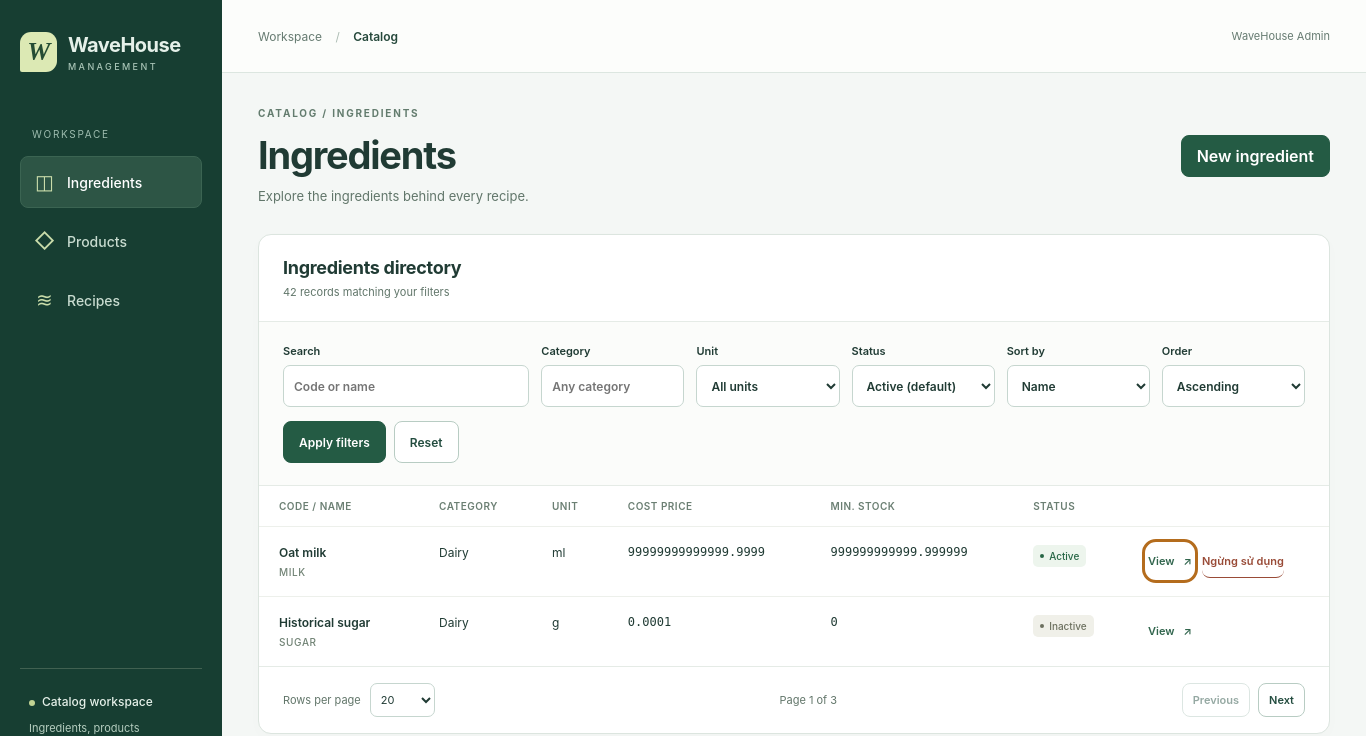
catalog navigation and records › opens ingredient details with keyboard and restores focus when closed
Press Enter
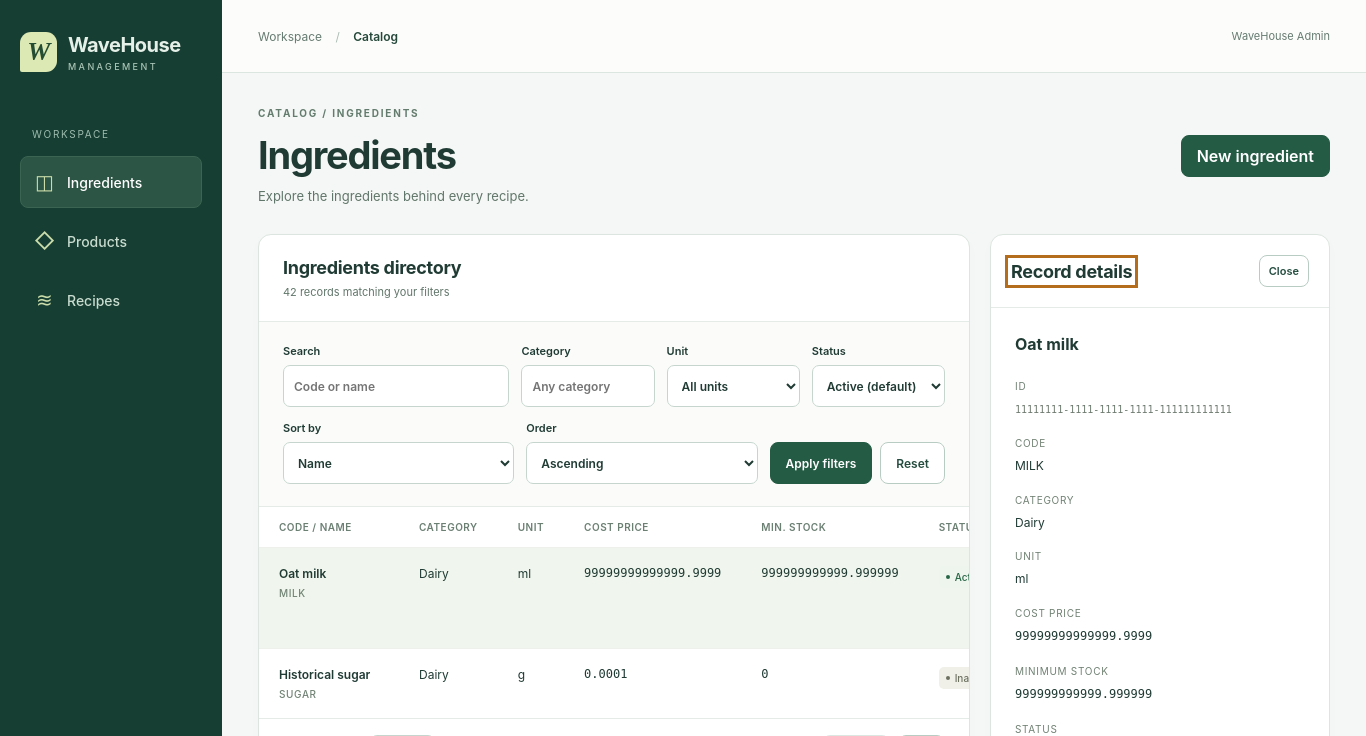
Result: the text "99999999999999.9999" is shown at 1015,629 -> 1152,643
Result: the text "999999999999.999999" is shown at 1015,687 -> 1152,701
Result: the text "11111111-1111-1111-1111-111111111111" is shown at 1015,404 -> 1232,415
Click the button with aria-label "Close details".
click(1284, 271)  # box 1259,255 -> 1309,287
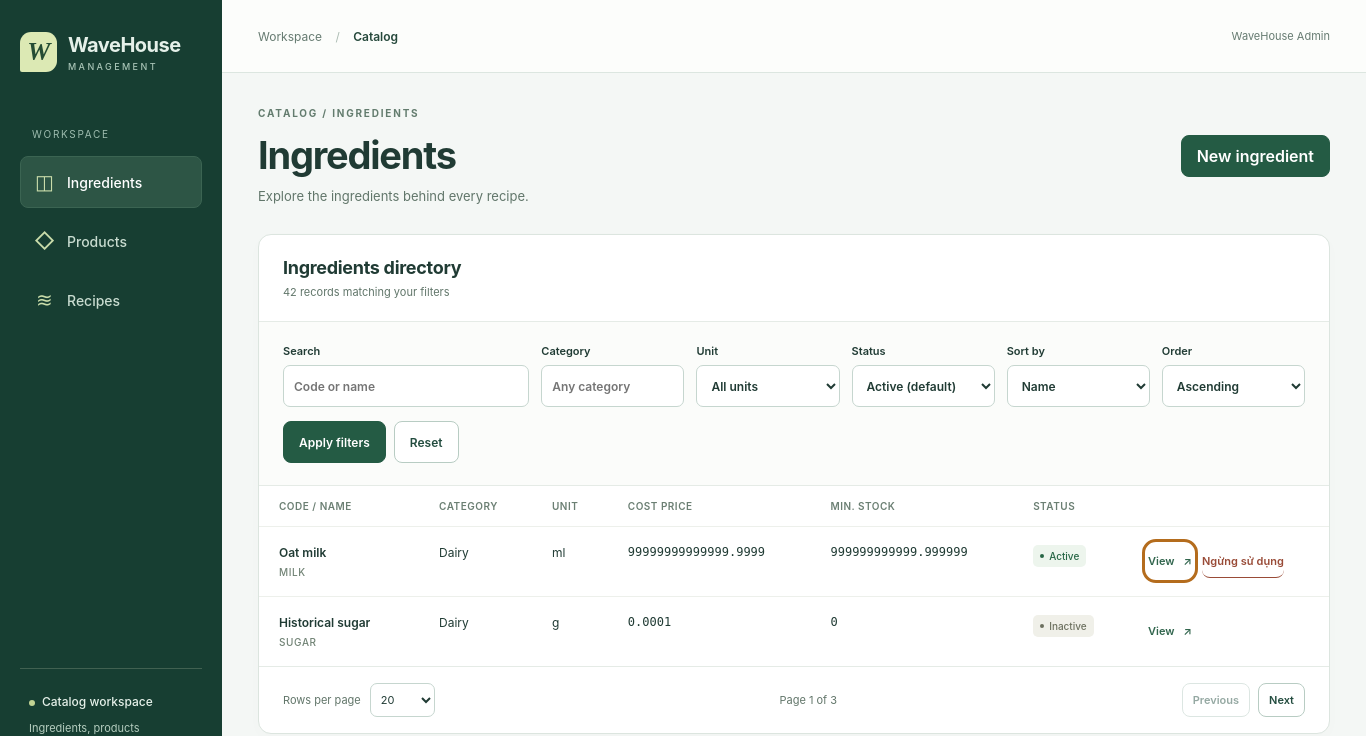
Result: the heading "Record details" is gone
